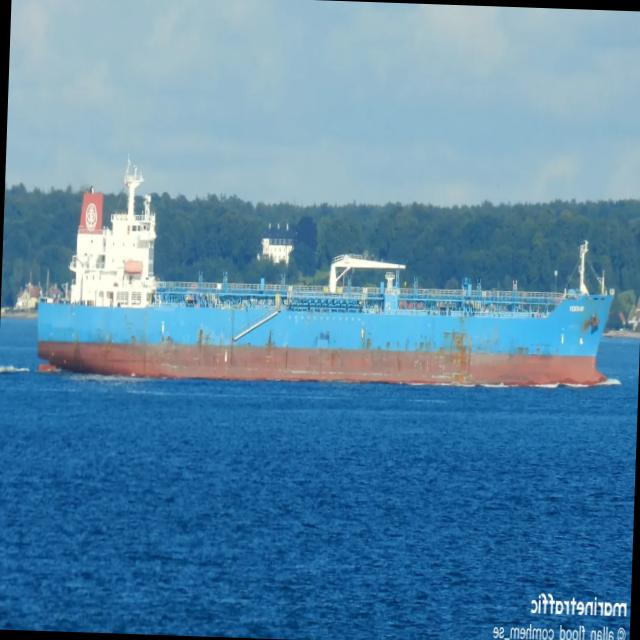Tanker: (37, 164, 614, 387)
